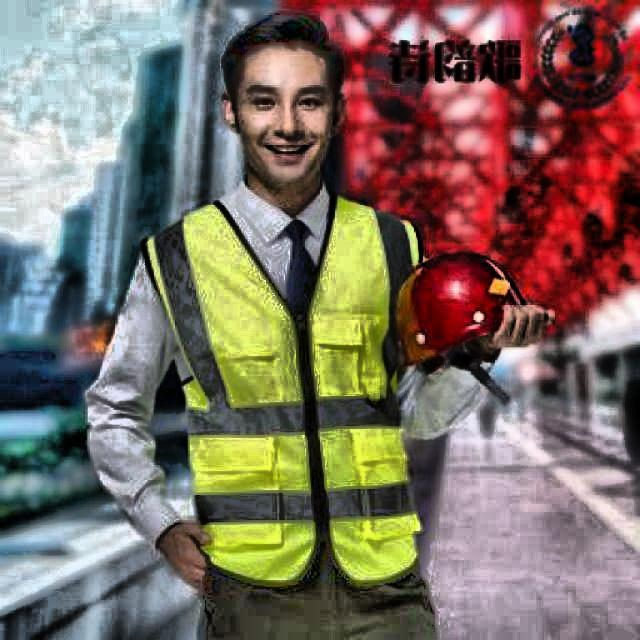safety_jacket: (152, 216, 432, 586)
